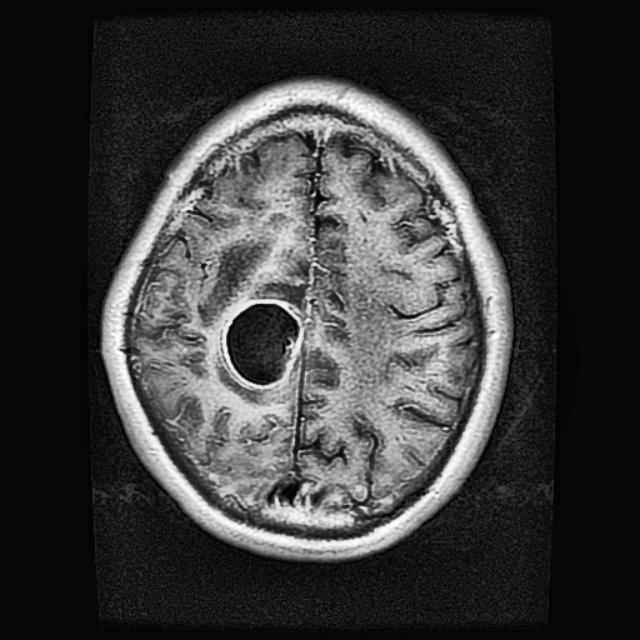Pituitary: (222, 297, 303, 390)
